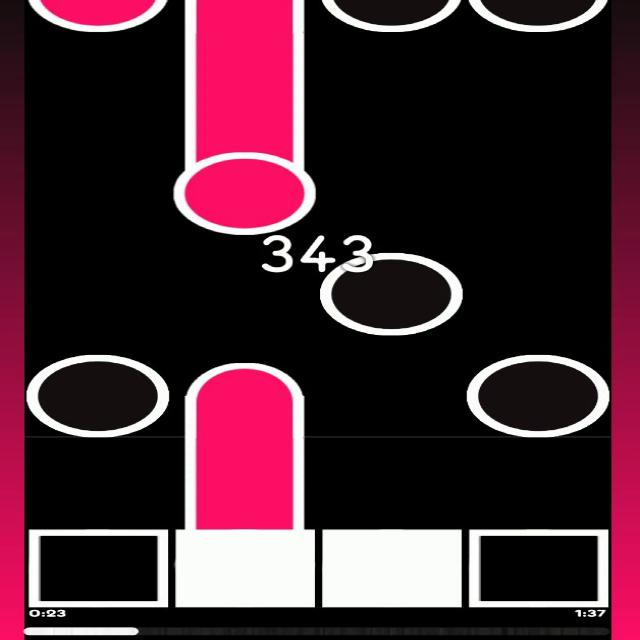end_hold: (178, 361, 310, 404)
note: (320, 254, 466, 337), (464, 355, 610, 437), (25, 356, 167, 438), (322, 0, 460, 35), (467, 0, 610, 33)
start_hold: (172, 137, 317, 236), (26, 0, 170, 32)
